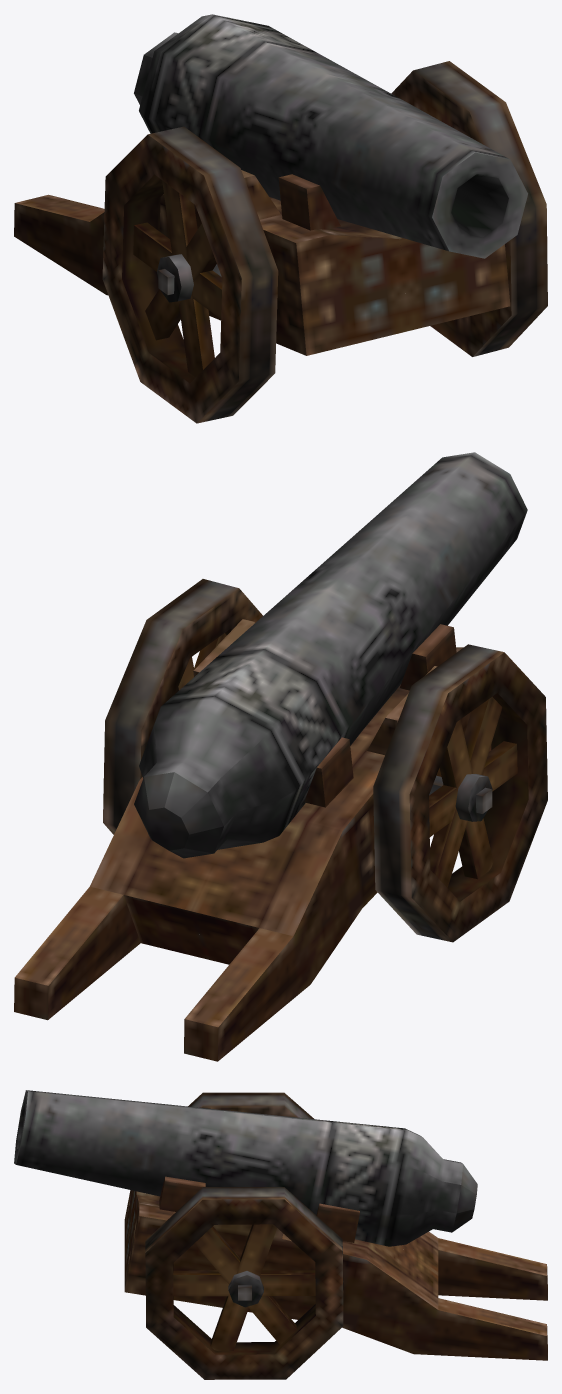
Rendered from b_general_obj_05.glb.
3 renders of one model, top to bottom at view 1: azimuth 30°, elevation 25°; view 2: azimuth 150°, elevation 25°; view 3: azimuth 270°, elevation 25°, orthographic. The views are drawn at different scales.
Visible parts, largest first — view 1: Mesh03; view 2: Mesh03; view 3: Mesh03.
Boxes of the visible parts, x1,y1,x2,y2 form: Mesh03: (14,14,547,423); Mesh03: (14,452,547,1061); Mesh03: (14,1090,547,1379).
Bounding box in the file's own units: 1.56 × 1.48 × 3.07.
1 material, 1 textured.
